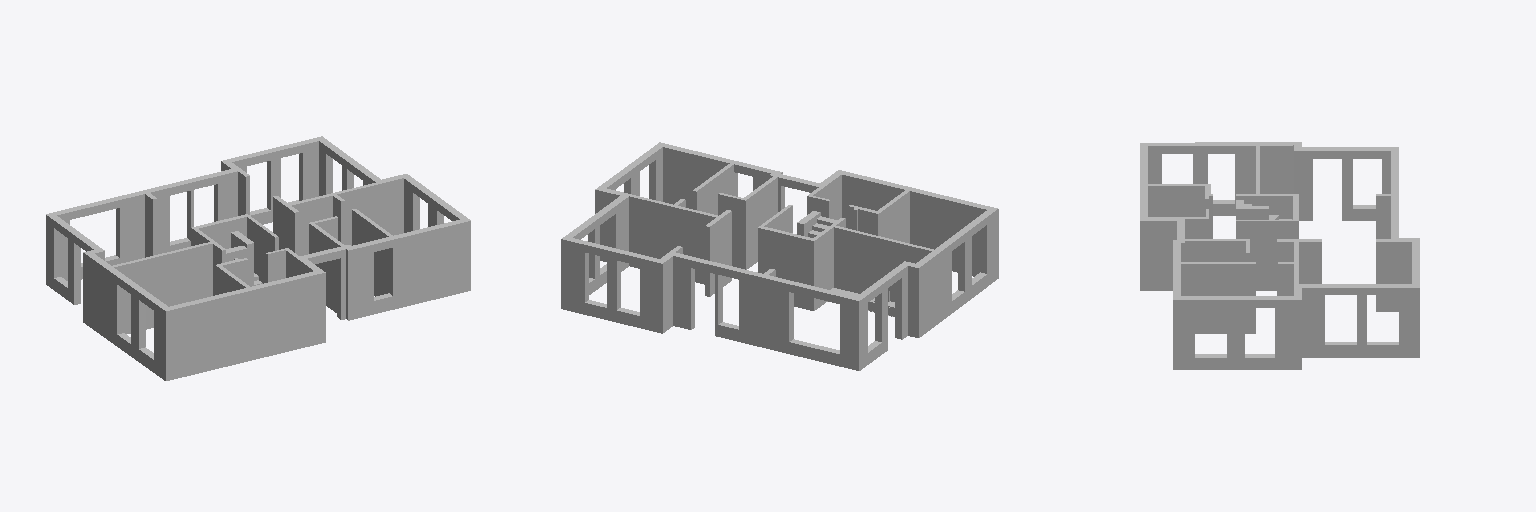
File: ErsterGrundriss.obj
The picture shows the model from 3 angles: view 1: azimuth 30°, elevation 25°; view 2: azimuth 150°, elevation 25°; view 3: azimuth 270°, elevation 25°; orthographic projection.
Parts seen in each view (by area): view 1: Mesh1 Model; view 2: Mesh1 Model; view 3: Mesh1 Model.
Boxes of the visible parts, x1,y1,x2,y2 form: Mesh1 Model: [46, 136, 470, 380]; Mesh1 Model: [561, 142, 998, 370]; Mesh1 Model: [1140, 142, 1419, 369].
Bounding box in the file's own units: 13.92 × 2.88 × 10.46.